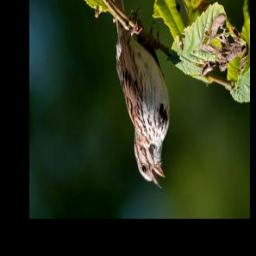Sparrow: (105, 0, 171, 191)
